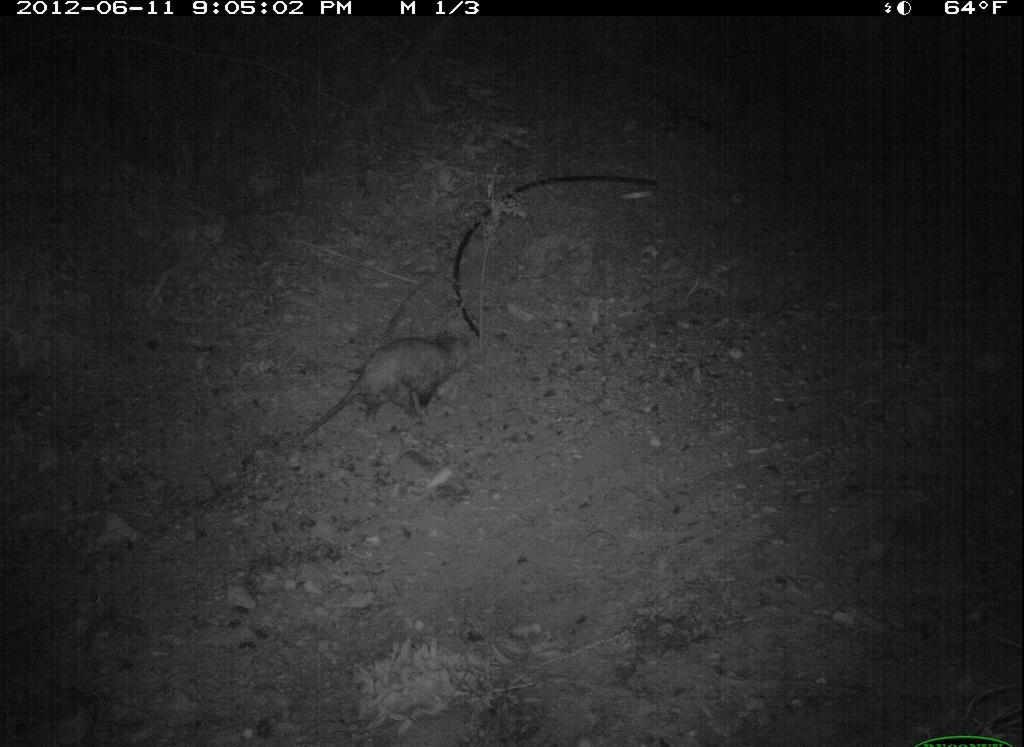opossum: (292, 329, 481, 451)
